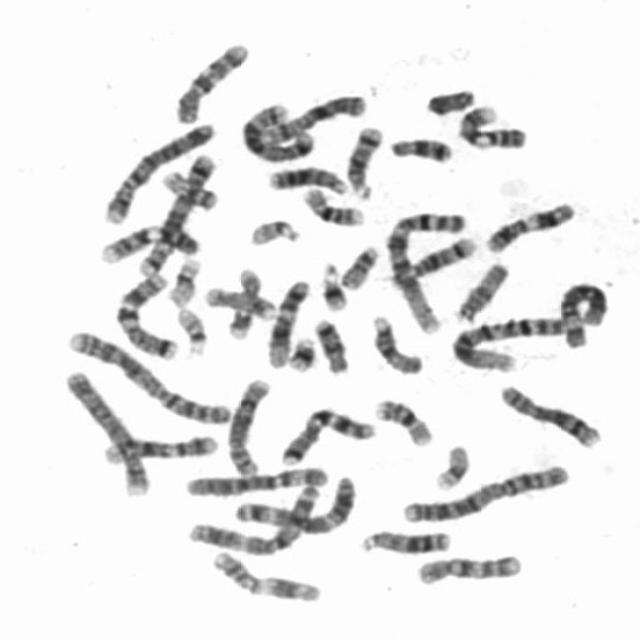A1: (378, 202, 471, 334), (444, 307, 572, 373)
A2: (59, 322, 234, 426), (394, 456, 573, 524)
A3: (178, 478, 326, 553), (230, 468, 358, 536)
B4: (95, 115, 217, 227), (57, 362, 153, 499)
B5: (129, 144, 219, 278), (233, 94, 318, 163)
C10: (167, 34, 252, 125), (408, 546, 525, 587)
C11: (204, 543, 324, 605), (476, 193, 578, 255)
C12: (94, 426, 221, 466), (260, 272, 312, 369)
C6: (178, 458, 332, 499), (553, 275, 611, 350)
C7: (273, 399, 379, 466), (109, 266, 181, 362)
C8: (492, 376, 604, 449), (219, 370, 274, 477)
C9: (91, 217, 203, 265), (449, 96, 530, 151)
D13: (352, 520, 453, 556), (260, 157, 350, 196)
D14: (381, 227, 480, 289), (339, 118, 386, 200)
D15: (446, 254, 512, 324), (364, 308, 426, 376)
E16: (366, 390, 436, 448), (296, 179, 368, 227)
E17: (219, 261, 264, 342), (197, 279, 280, 321)
E18: (308, 310, 352, 374), (382, 128, 456, 164)
F19: (426, 437, 473, 492), (161, 250, 204, 308)
F20: (154, 163, 222, 212), (334, 238, 381, 291)
G21: (313, 255, 350, 313), (280, 329, 319, 374)
G22: (169, 299, 211, 356), (242, 210, 303, 247)
X: (256, 86, 369, 146)
Y: (417, 80, 478, 116)
